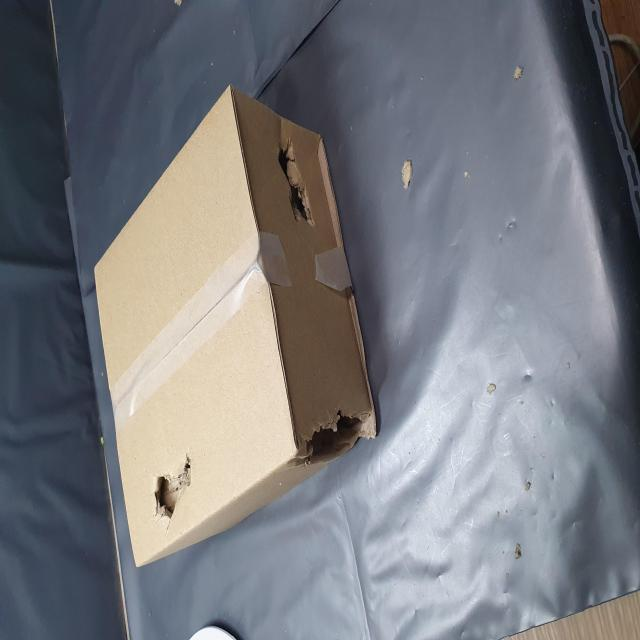damaged: (237, 485, 292, 568), (96, 530, 130, 640), (66, 268, 101, 349)
